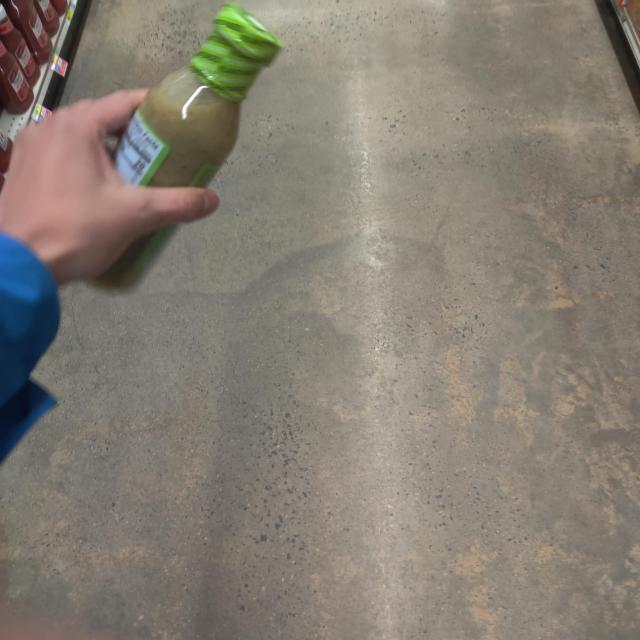Sauce: (61, 2, 279, 311)
